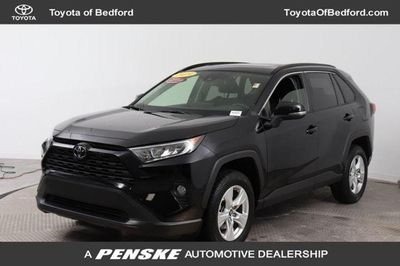Black Toyota RAV-4: (34, 59, 377, 241)
